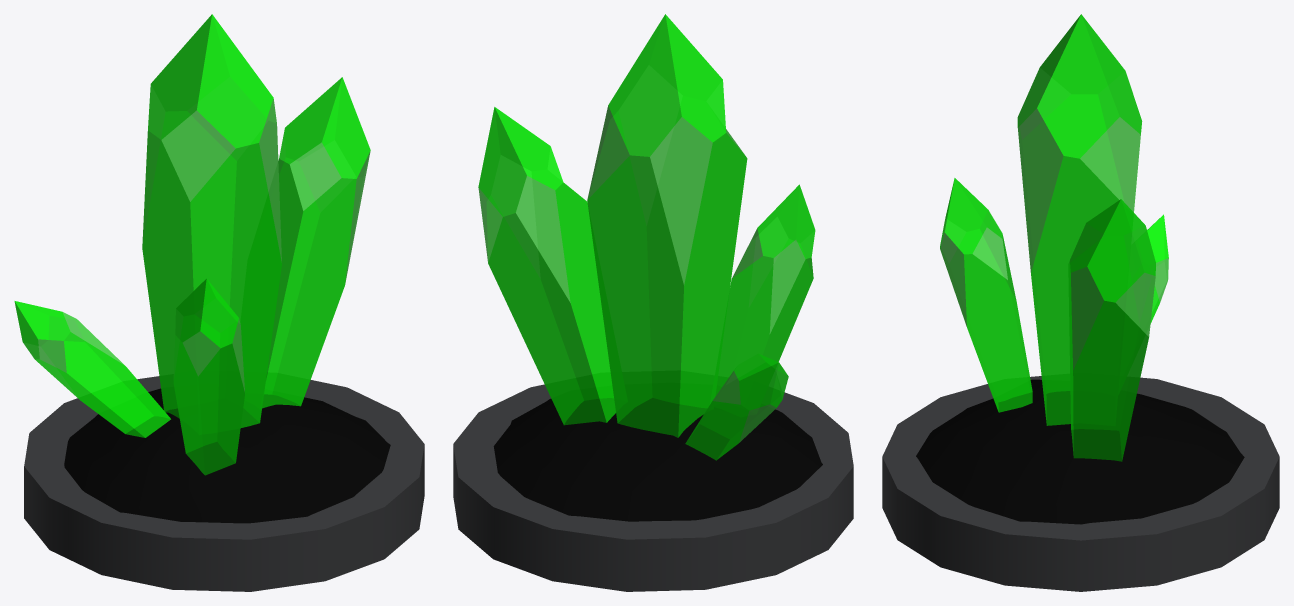
Rendered from Crystals_Green.fbx.
3 renders of one model, left to right at view 1: azimuth 30°, elevation 25°; view 2: azimuth 150°, elevation 25°; view 3: azimuth 270°, elevation 25°, orthographic.
Visible parts, largest first — view 1: Crystals_Green; view 2: Crystals_Green; view 3: Crystals_Green.
Part boxes in pixels (x1,y1,x2,y2): Crystals_Green: (14,14,424,591); Crystals_Green: (453,14,853,591); Crystals_Green: (882,14,1279,591).
Bounding box in the file's own units: 0.2472 × 0.3351 × 0.2472.
